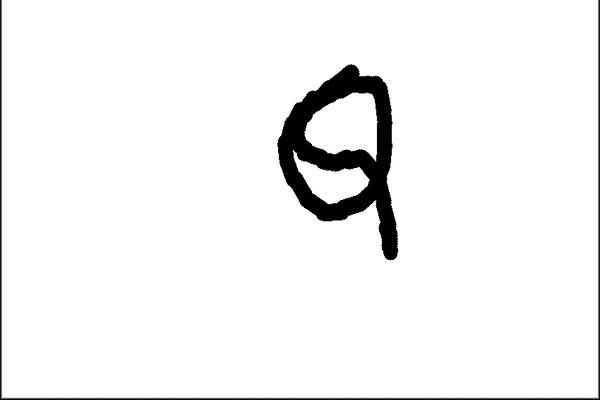Q: (269, 59, 404, 263)
